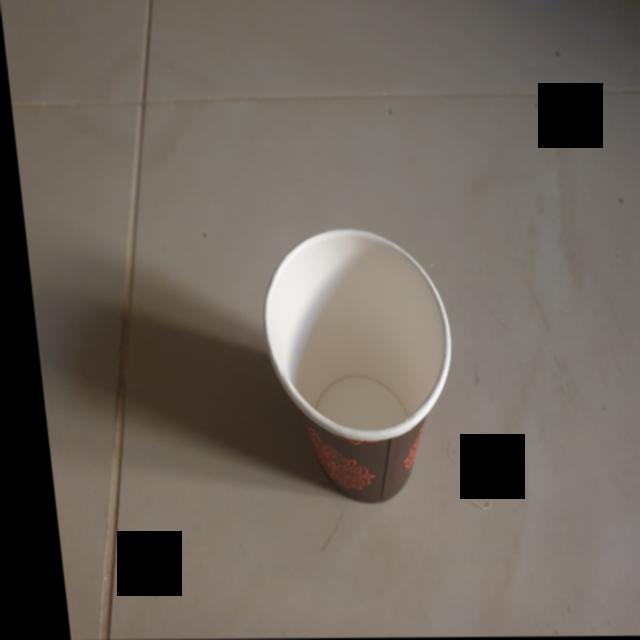cups: (241, 224, 461, 513)
